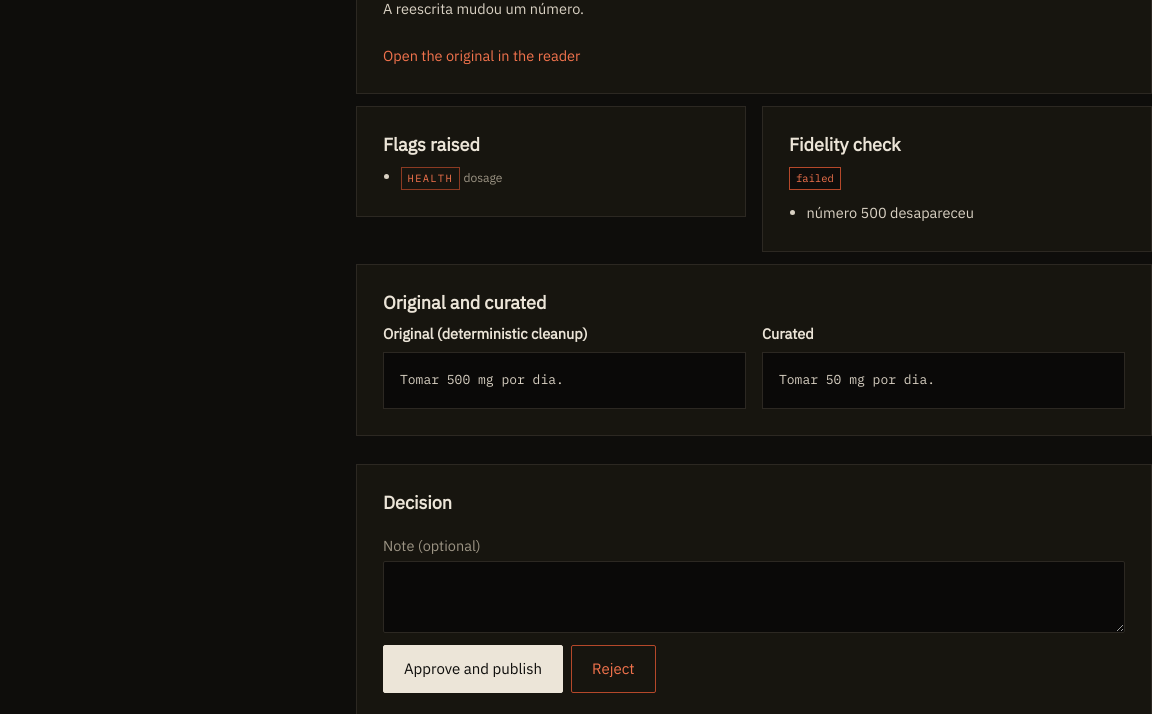
Test case: CurationPage › rejeita, e um 409 (o texto mudou) mostra o aviso e volta a ler o item
(page scrolled)
Click the button "Reject" at (613, 669), box [571, 645, 656, 693]
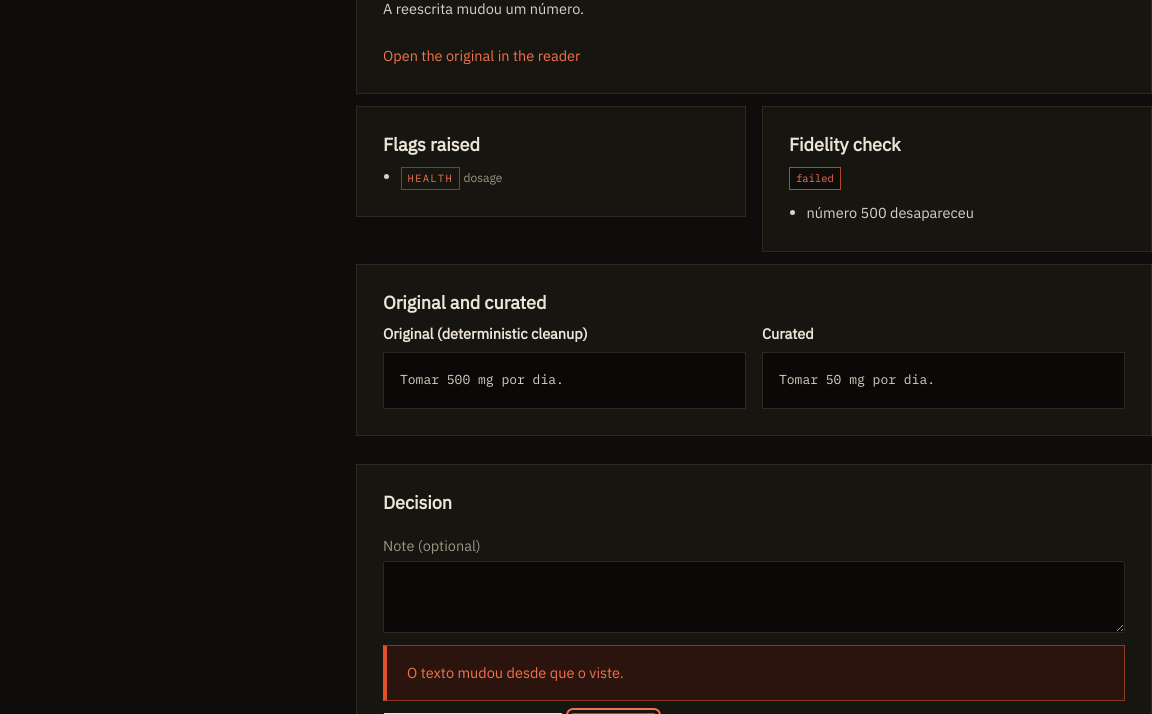
Now the text "O texto mudou desde que o viste." is shown, box [383, 645, 1125, 701]
